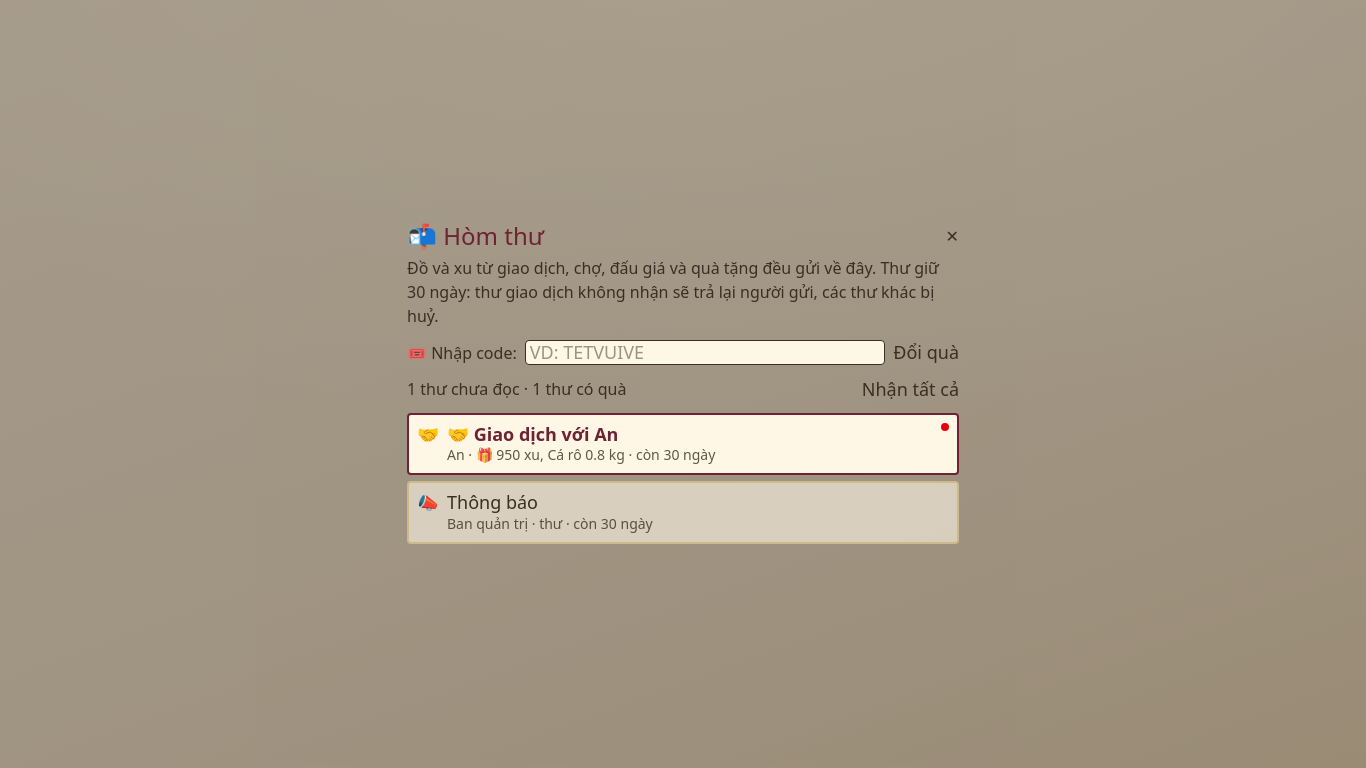
Test case: MailboxModal › lists, opens (marks read), claims and reloads the wallet
This screenshot has width=1366, height=768.
Check: the text "1 thư chưa đọc · 1 thư có quà" is shown, box [407,377,626,401]
Check: the list item with test id "mail-2" shows "Ban quản trị", box [417,491,949,534]
Step 1. Click the text "🤝 Giao dịch với An" → [533, 434], box [447,422,618,446]
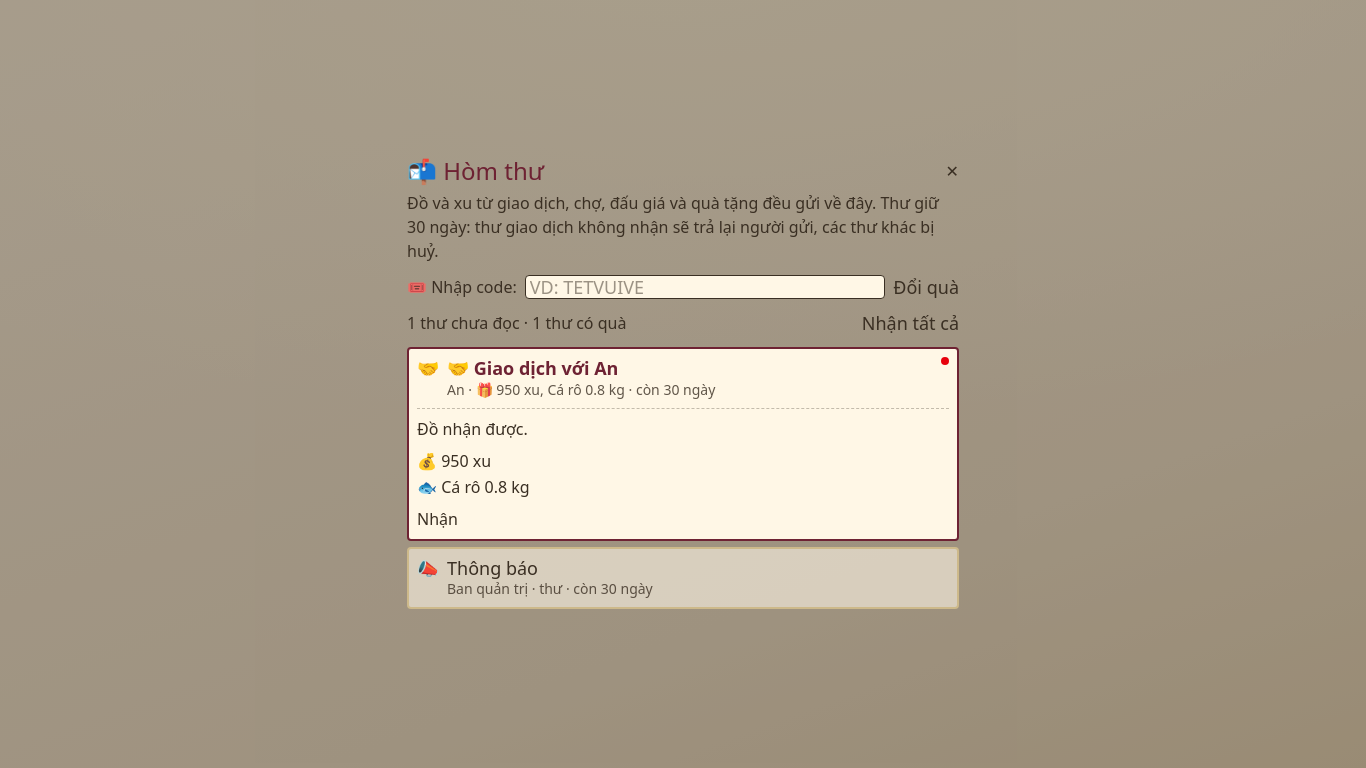
Check: the text "Đồ nhận được." is shown, box [417,418,528,440]
Step 2. Click the button "Nhận" → [437, 519], box [417,507,458,531]
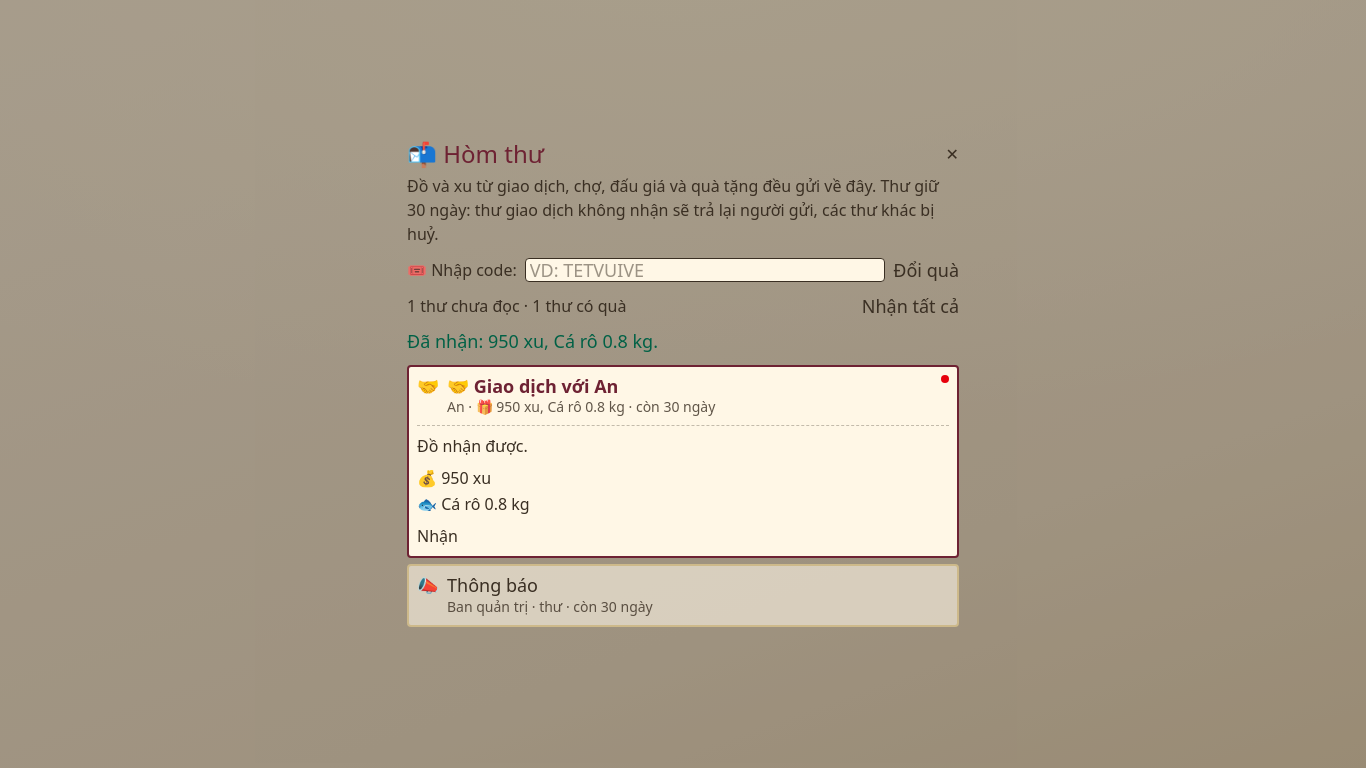
Check: the text "Đã nhận: 950 xu, Cá rô 0.8 kg." is shown, box [407,329,658,353]
